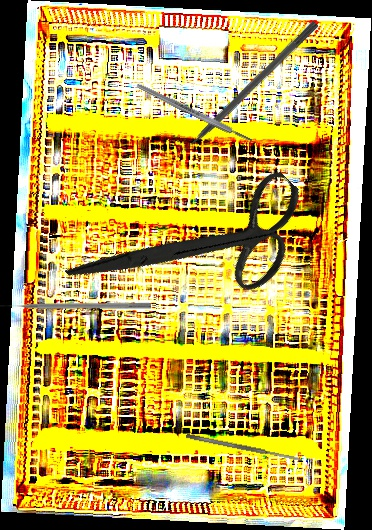Iris Scissors: (63, 110, 330, 379)
Pusher: (171, 18, 320, 163), (0, 301, 151, 309)
Scalpel Handle: (135, 81, 254, 145)
Spatula Surgical: (185, 432, 303, 464)
